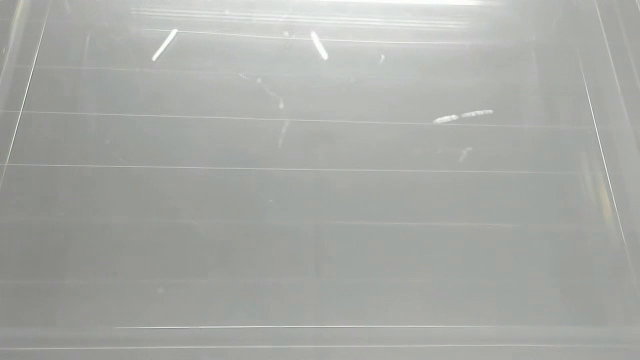alpha: (428, 108, 497, 127), (148, 27, 182, 65), (306, 27, 331, 62)
